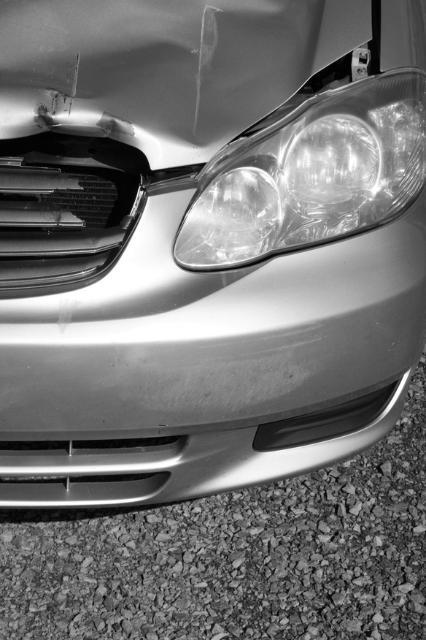Bonnet: (0, 0, 396, 333)
Bumper: (0, 289, 426, 524)
